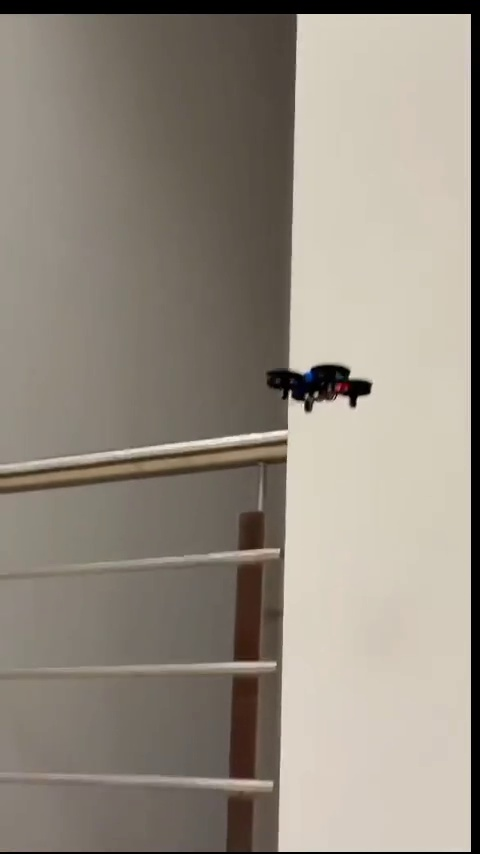drone: (267, 364, 373, 410)
